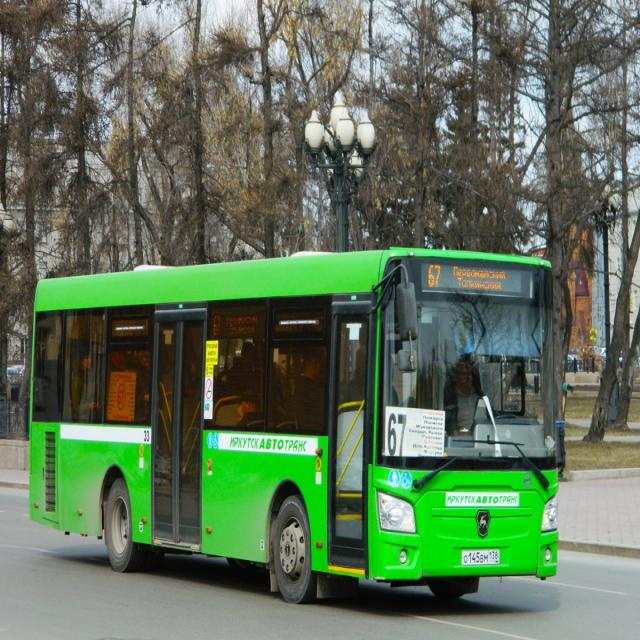number-of-bus: (387, 412, 408, 461)
